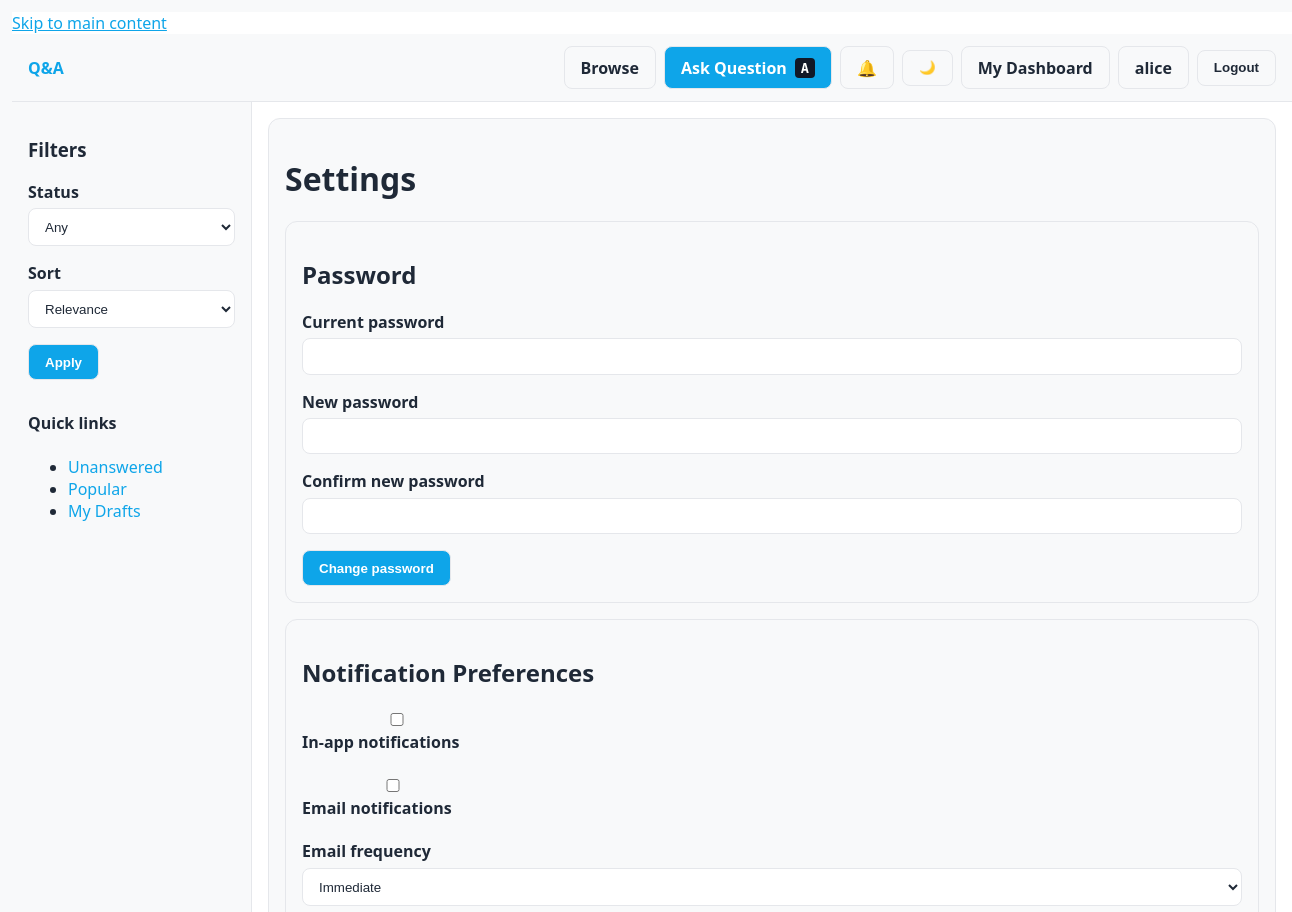
Test case: Auth flows › change password via settings shows success toast
Expected: the heading "Settings" is shown, [285,157,416,200]
Type "currentPW" into the password field labelled "Current password" at (772, 357), box [302,338,1242,375]
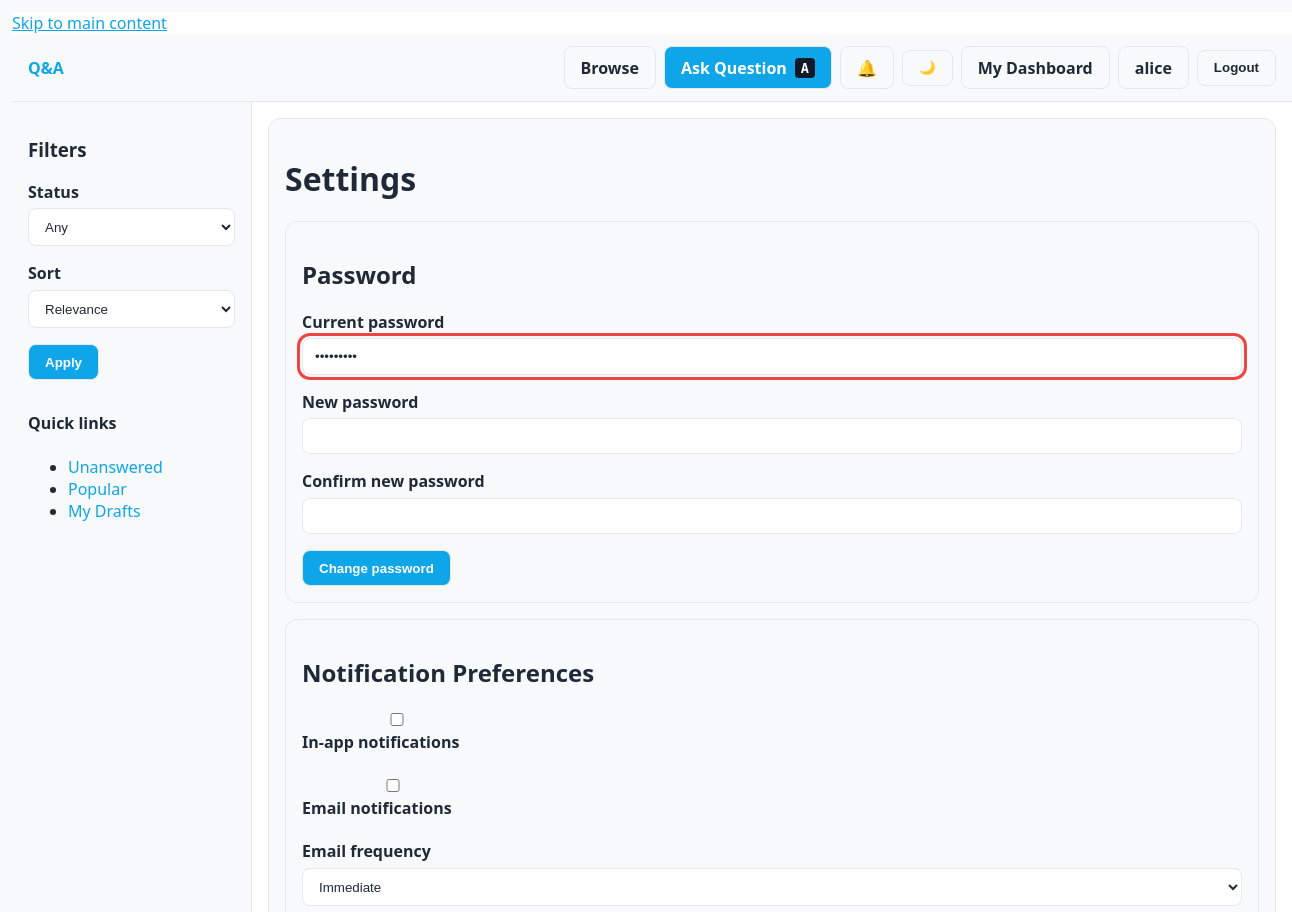
Type "newPW123!" into the password field labelled "New password" at (772, 436), box [302,418,1242,454]
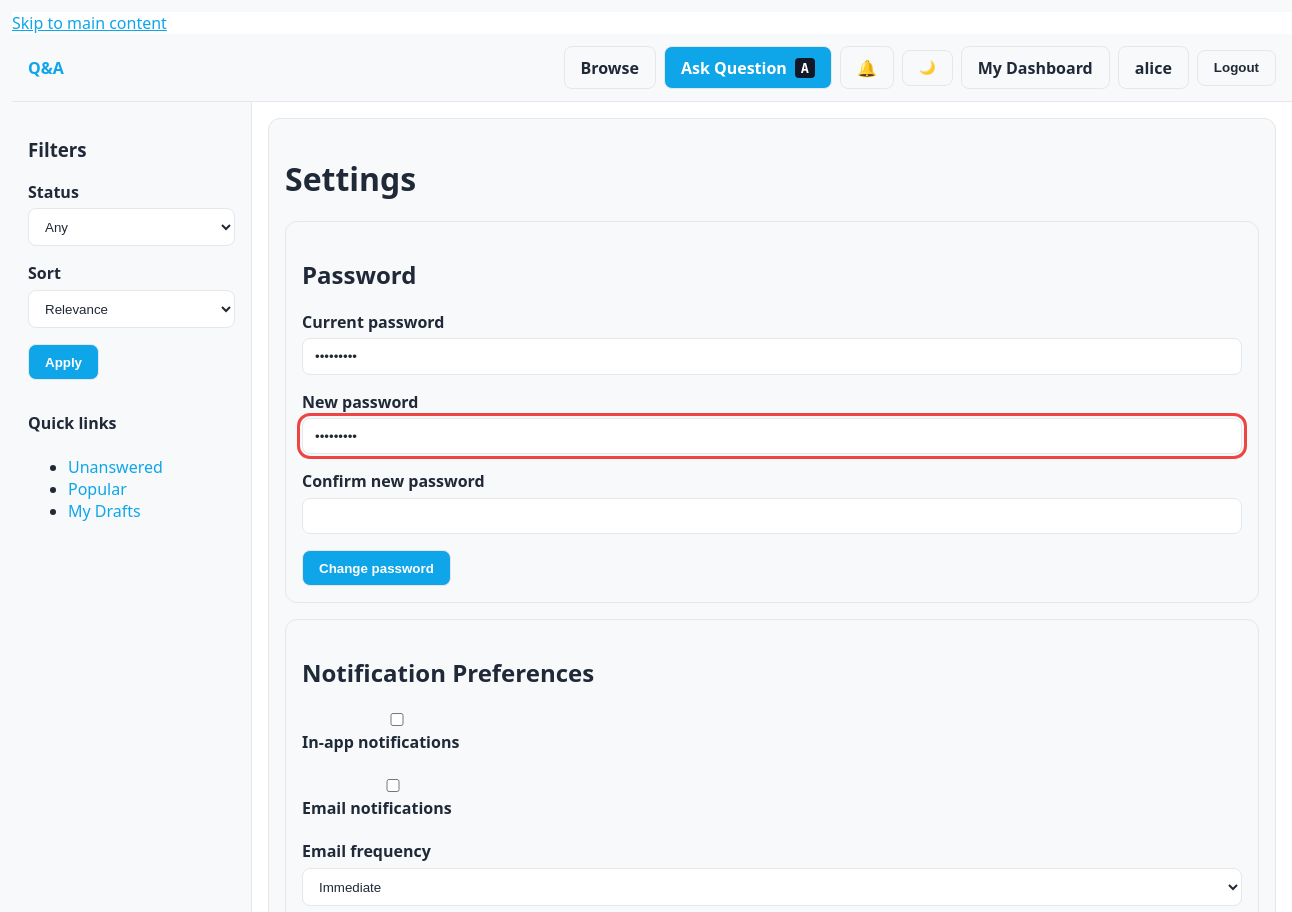
Type "newPW123!" into the password field labelled "Confirm new password" at (772, 516), box [302,498,1242,534]
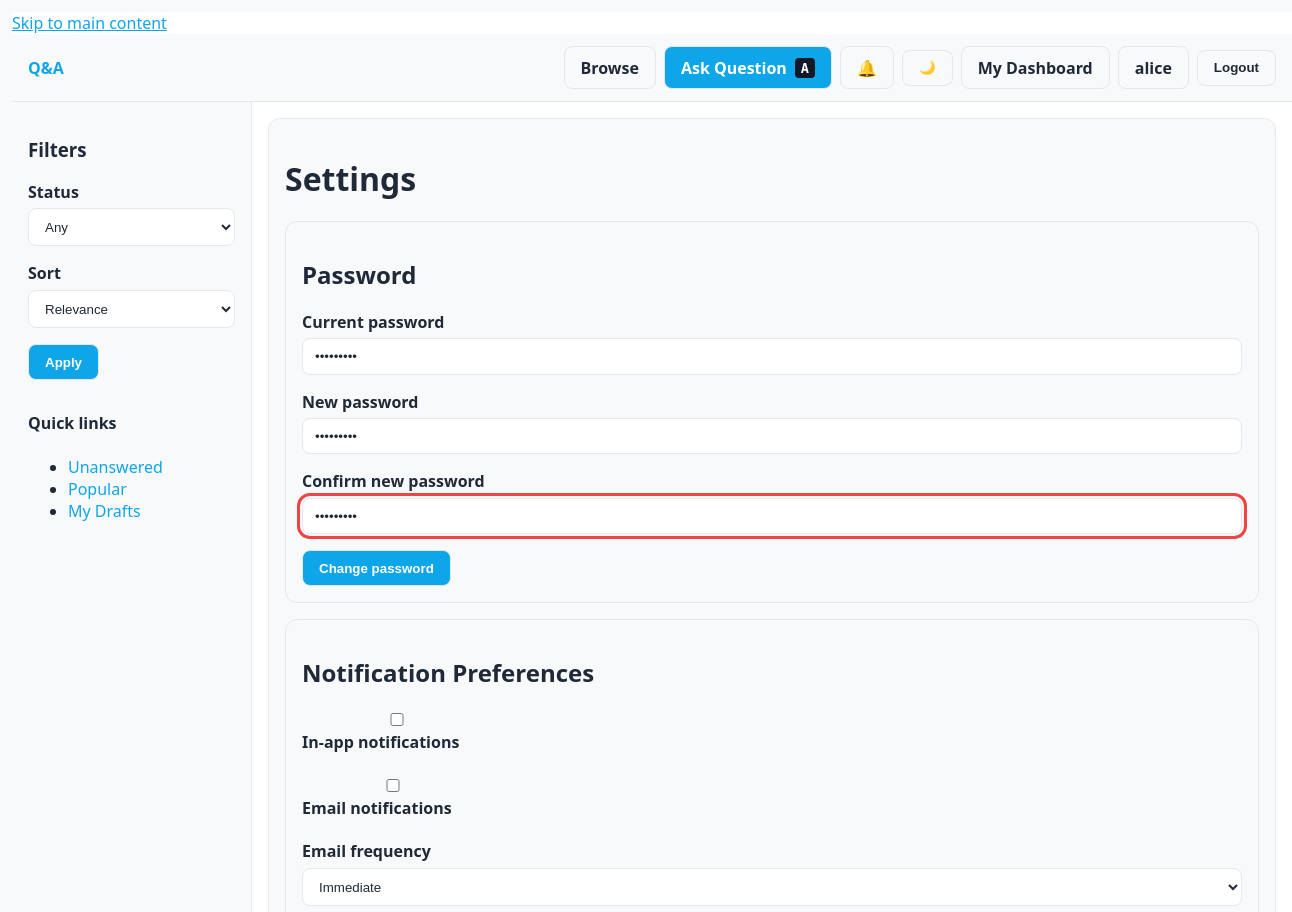
Click the button "Change password" at (376, 568), box [302,550,451,586]
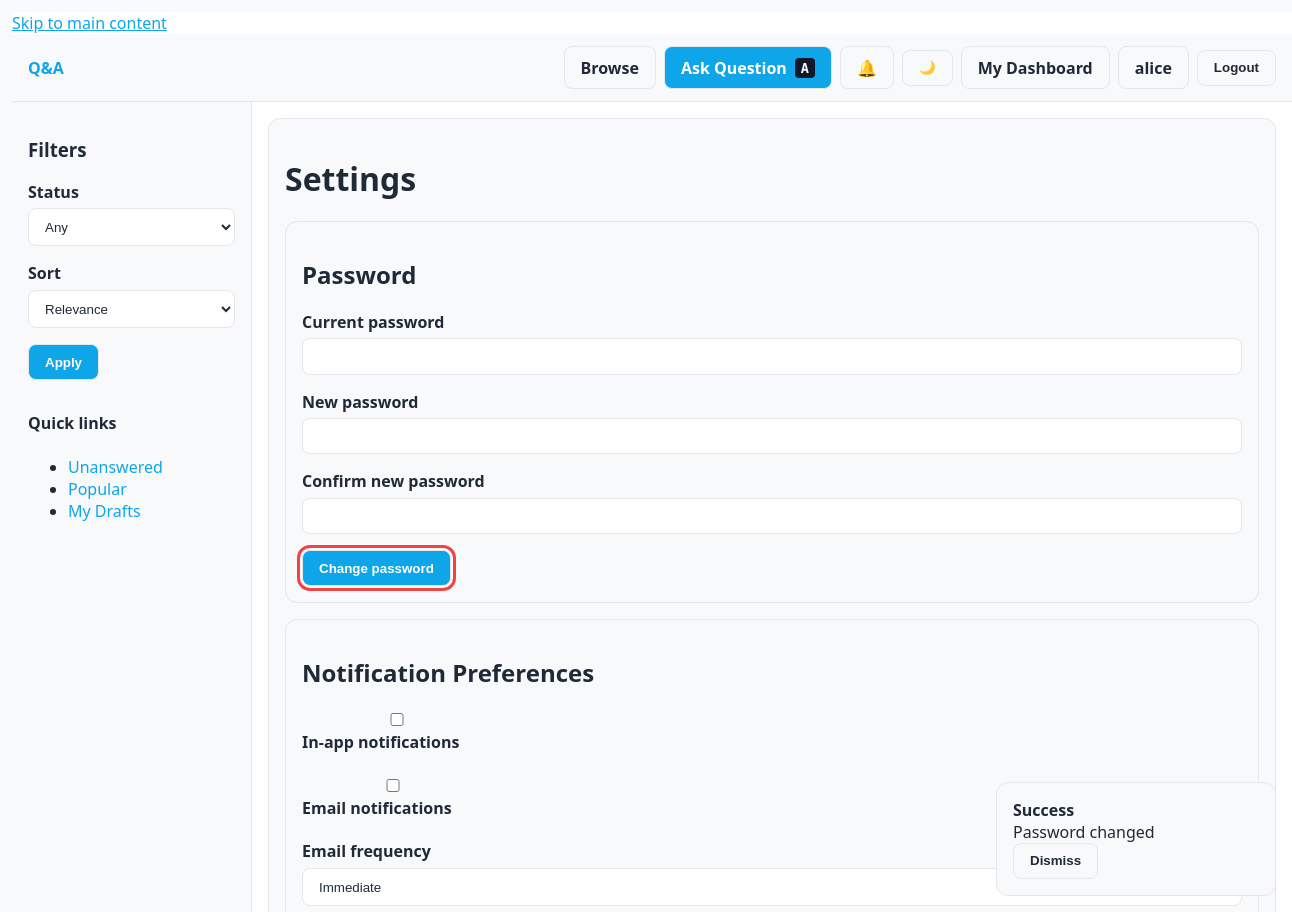
Expected: the text "Notification Preferences" is shown, [302,656,594,689]
Expected: the message "Success Password changed Dismiss" is shown, [996,782,1276,896]
